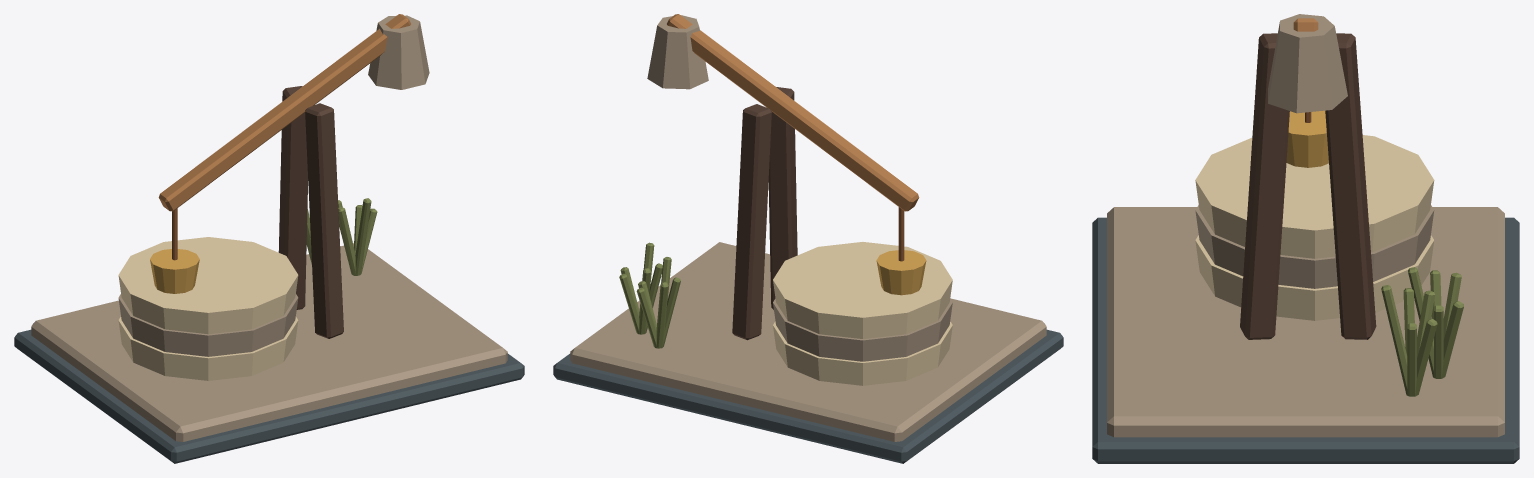
The model's file is lake.glb.
3 renders of one model, left to right at view 1: azimuth 30°, elevation 25°; view 2: azimuth 150°, elevation 25°; view 3: azimuth 270°, elevation 25°, orthographic. The views are drawn at different scales.
Visible parts, largest first — view 1: lake-stone, lake-pale, lake-dark, lake-slate, lake-oak, lake-moss, lake-brass; view 2: lake-stone, lake-pale, lake-slate, lake-dark, lake-oak, lake-moss, lake-brass; view 3: lake-stone, lake-pale, lake-dark, lake-slate, lake-moss, lake-brass.
Boxes of the visible parts, x1,y1,x2,y2 form: lake-stone: [31, 15, 507, 441]; lake-pale: [118, 237, 298, 380]; lake-dark: [278, 86, 343, 338]; lake-slate: [14, 329, 524, 463]; lake-oak: [158, 14, 410, 211]; lake-moss: [306, 198, 377, 275]; lake-brass: [150, 249, 199, 293]; lake-stone: [570, 15, 1046, 441]; lake-pale: [773, 242, 952, 385]; lake-slate: [553, 329, 1063, 463]; lake-dark: [732, 87, 797, 340]; lake-oak: [667, 14, 919, 211]; lake-moss: [619, 242, 680, 348]; lake-brass: [876, 250, 926, 295]; lake-stone: [1107, 14, 1504, 437]; lake-pale: [1195, 135, 1434, 320]; lake-dark: [1240, 33, 1376, 339]; lake-slate: [1092, 217, 1519, 463]; lake-moss: [1381, 267, 1463, 396]; lake-brass: [1286, 110, 1328, 167].
Bounding box in the file's own units: 2.45 × 2.09 × 1.93.
